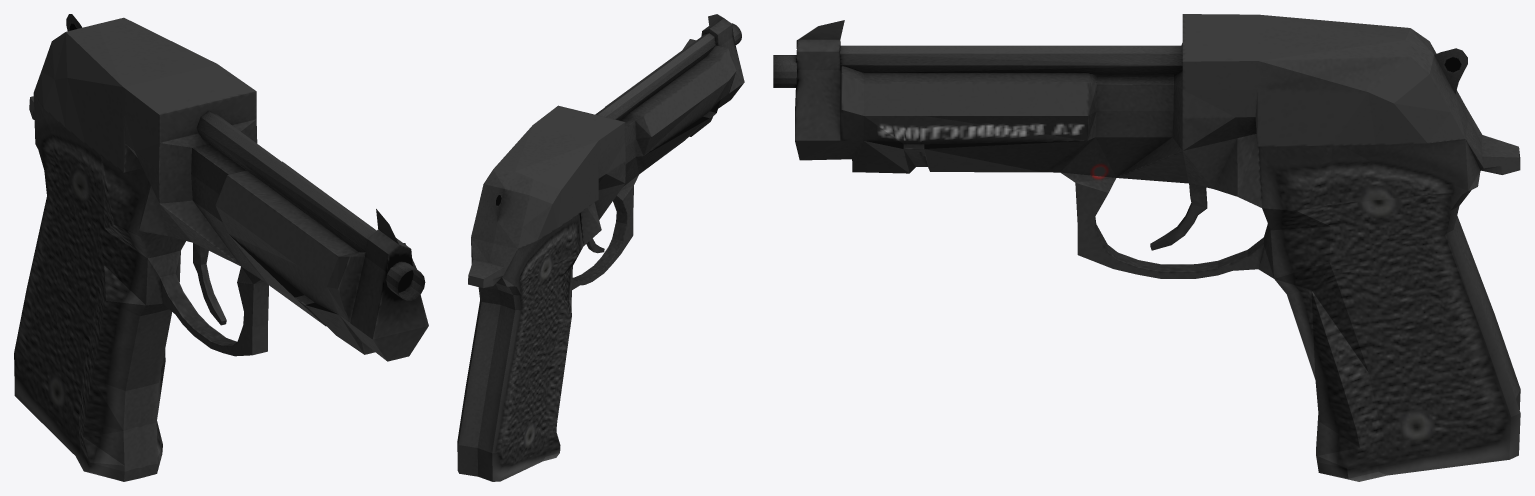
The model's file is pistol.dae.
The picture shows the model from 3 angles, left to right: view 1: azimuth 30°, elevation 25°; view 2: azimuth 150°, elevation 25°; view 3: azimuth 270°, elevation 25°; orthographic projection. The views are drawn at different scales.
Visible parts, largest first — view 1: Pistol; view 2: Pistol; view 3: Pistol.
Part boxes in pixels (left/top/right/bottom): Pistol: left=14, top=14, right=428, bottom=481; Pistol: left=457, top=14, right=744, bottom=481; Pistol: left=773, top=14, right=1520, bottom=481.
Bounding box in the file's own units: 0.0322 × 0.2106 × 0.1392.
Materials: 1 (1 with a texture image).
